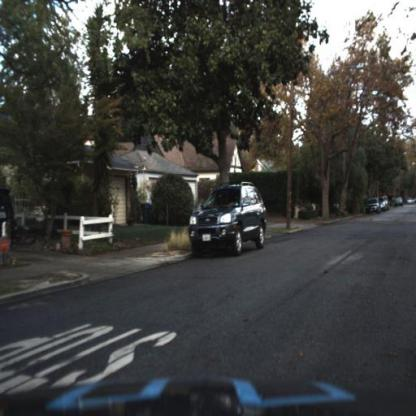car: (181, 178, 269, 264), (366, 197, 381, 220), (393, 193, 408, 211), (379, 194, 388, 214)
